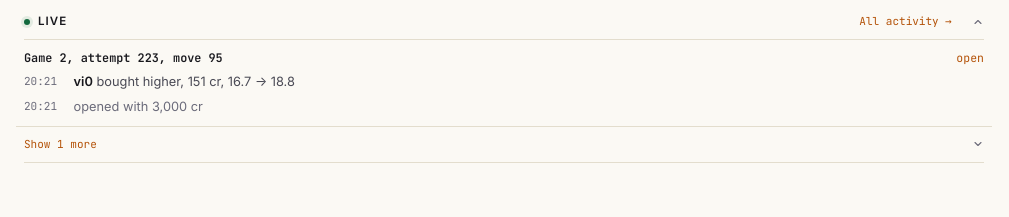
Scenario: the Live block › A FAST WORKSPACE IS GROUPED BY PROPOSAL: the title, where it stands, what it opened with, and short trades
Note: Compact first: the older group is behind "Show 1 more".
Click the button "Show 1 more".
click(60, 144)  # box [24, 127, 984, 163]
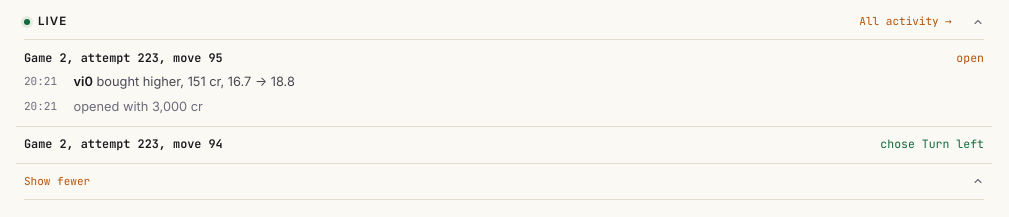
Check: the link "Game 2, attempt 223, move 95" is shown, box [24, 49, 223, 67]
Check: the text "chose Turn left" is shown, box [880, 136, 984, 153]
